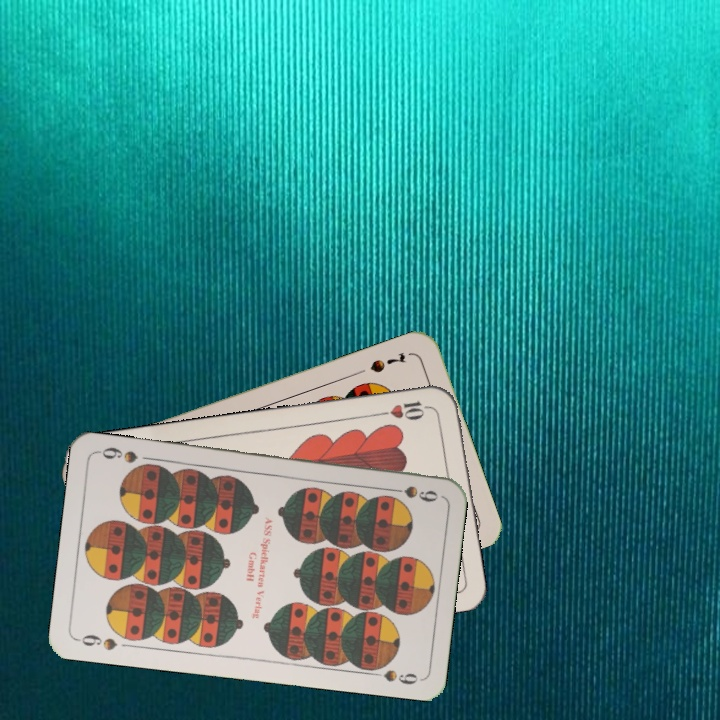H10: (375, 397, 434, 423)
S7: (366, 348, 408, 376)
S9: (382, 481, 441, 505), (73, 630, 120, 653)
